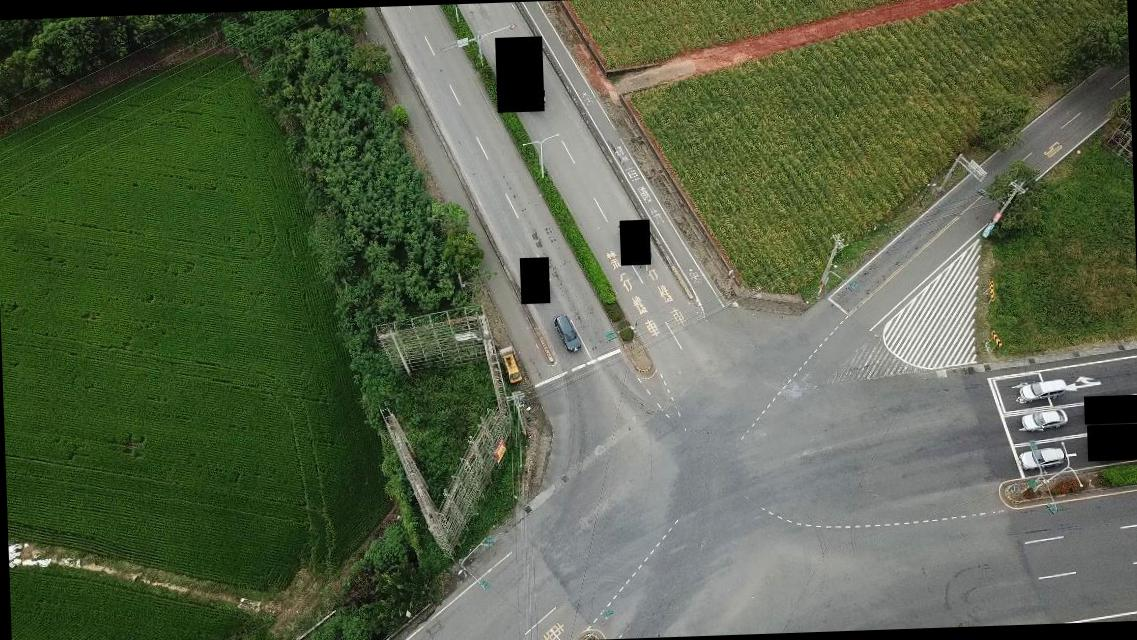vehicle: (1017, 377, 1065, 402), (553, 312, 581, 354), (1019, 408, 1068, 432), (1016, 446, 1064, 470), (501, 350, 521, 384)
